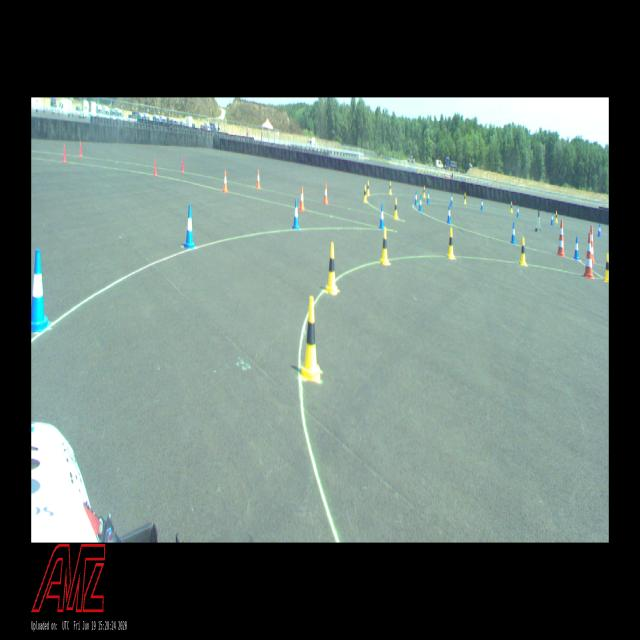blue_cone: (31, 250, 51, 331), (183, 206, 194, 248), (292, 200, 299, 230), (574, 237, 580, 260), (510, 222, 516, 244), (379, 204, 384, 229), (447, 206, 451, 223), (550, 212, 554, 225), (419, 195, 422, 211), (450, 193, 453, 206), (598, 224, 601, 236), (415, 191, 417, 205), (481, 198, 483, 210), (428, 191, 430, 203), (517, 205, 519, 217)
large_orange_cone: (584, 232, 595, 279), (557, 220, 565, 257), (590, 225, 596, 264)
orange_cone: (299, 187, 305, 210), (223, 171, 227, 192), (324, 184, 328, 204), (256, 170, 260, 188)
unknown_cone: (62, 146, 66, 162), (154, 159, 157, 176), (181, 157, 184, 172), (79, 142, 82, 156)
yellow_cone: (301, 296, 320, 382), (326, 243, 338, 294), (381, 228, 388, 264), (519, 237, 526, 265), (448, 228, 454, 258), (603, 253, 609, 281), (393, 198, 398, 218), (363, 185, 367, 202), (367, 181, 370, 195), (389, 182, 391, 194), (556, 211, 558, 222), (424, 186, 426, 197), (464, 193, 466, 204), (510, 202, 512, 212)
